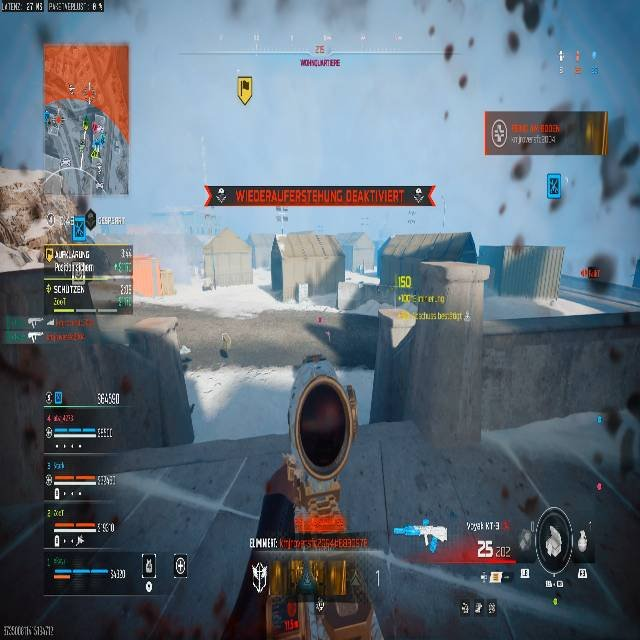head: (296, 379, 358, 466)
player: (236, 378, 391, 635)
